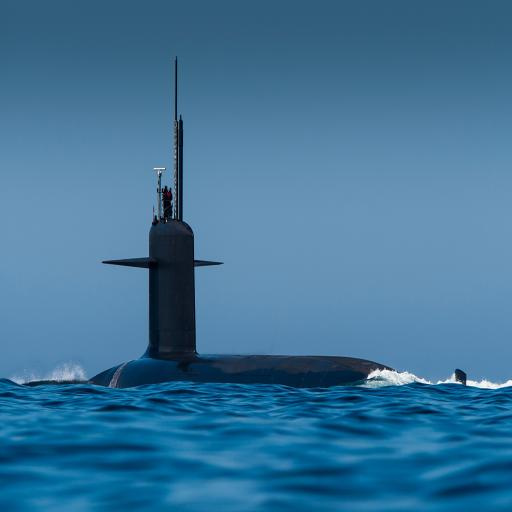submarine: (72, 46, 473, 393)
